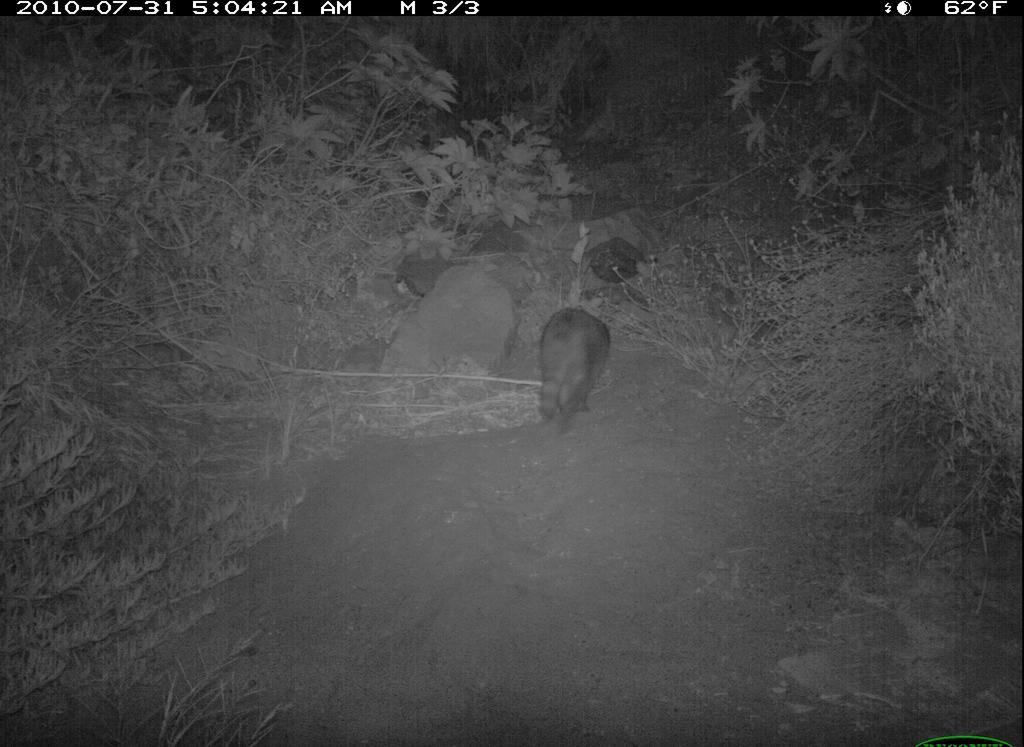raccoon: (537, 291, 623, 431)
